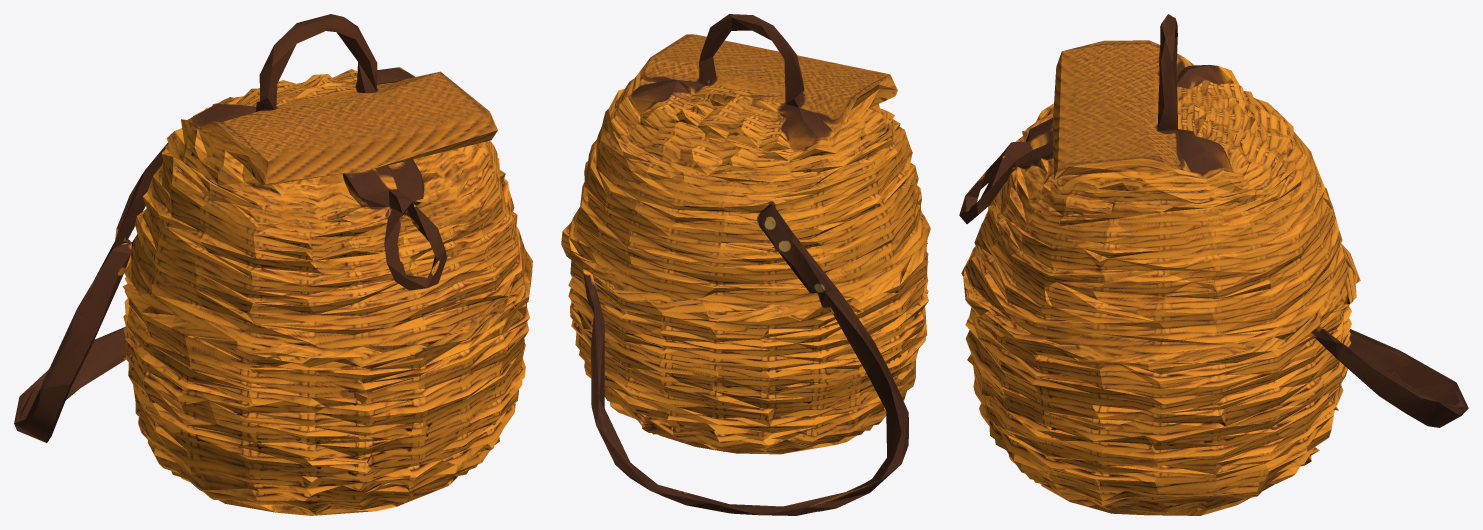
3 views of the same model, side by side, from view 1: azimuth 30°, elevation 25°; view 2: azimuth 150°, elevation 25°; view 3: azimuth 270°, elevation 25° (orthographic). The views are drawn at different scales.
Parts seen in each view (by area): view 1: output_unwrapped; view 2: output_unwrapped; view 3: output_unwrapped.
Part boxes in pixels (box(x1,y1,x2,y2)): output_unwrapped: box(14, 14, 532, 515); output_unwrapped: box(561, 14, 930, 515); output_unwrapped: box(959, 14, 1468, 515).
Size of the model in its own units: 1.78 by 1.77 by 1.9.
1 material, 1 textured.
